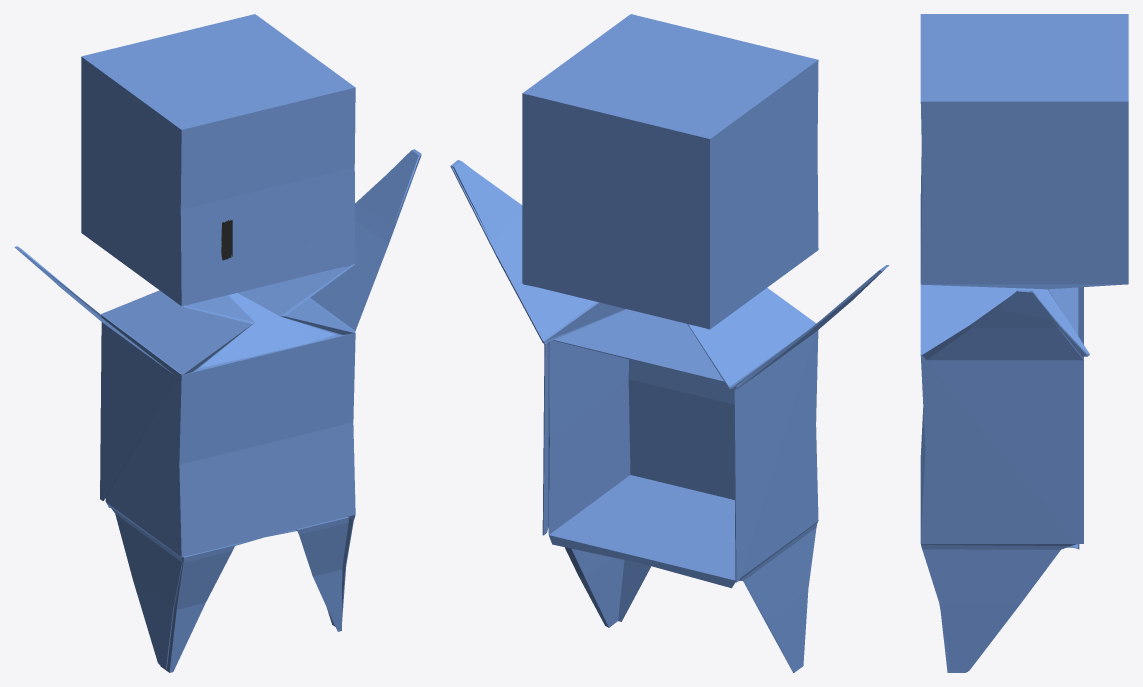
The model's file is boy2.fbx.
3 views of the same model, side by side, from view 1: azimuth 30°, elevation 25°; view 2: azimuth 150°, elevation 25°; view 3: azimuth 270°, elevation 25° (orthographic). The views are drawn at different scales.
Parts seen in each view (by area): view 1: Cube.001; view 2: Cube.001; view 3: Cube.001.
Part boxes in pixels (x1,y1,x2,y2): Cube.001: (14, 14, 421, 672); Cube.001: (450, 14, 889, 672); Cube.001: (920, 14, 1128, 672).
Size of the model in its own units: 202 by 607 by 460.
Materials: 2 (1 with a texture image).
